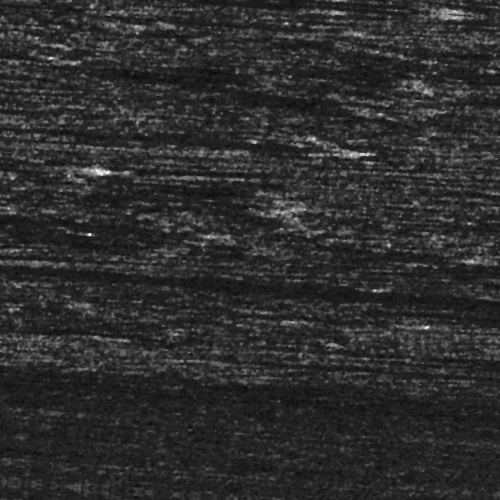object: (306, 138, 369, 149), (274, 20, 367, 27), (251, 3, 314, 6), (366, 0, 439, 1)
shadow: (150, 276, 500, 293), (78, 138, 337, 149), (289, 355, 500, 364), (148, 20, 320, 27), (21, 3, 282, 6), (64, 0, 403, 1)
